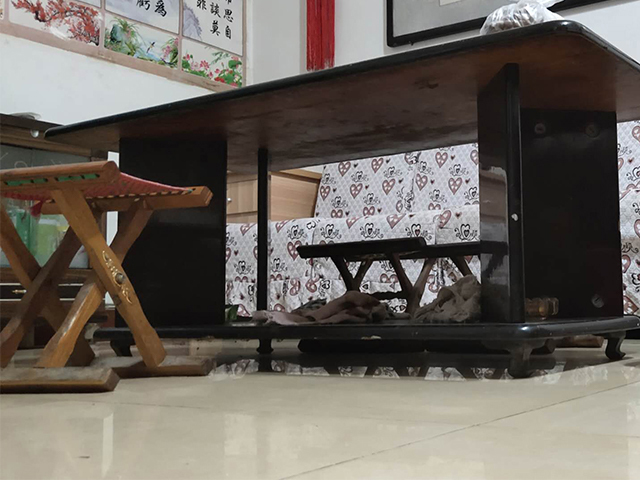cabinet: (1, 111, 110, 347)
sofa: (224, 147, 474, 320)
stool: (1, 156, 217, 395), (293, 236, 481, 320)
table: (41, 18, 640, 381)
